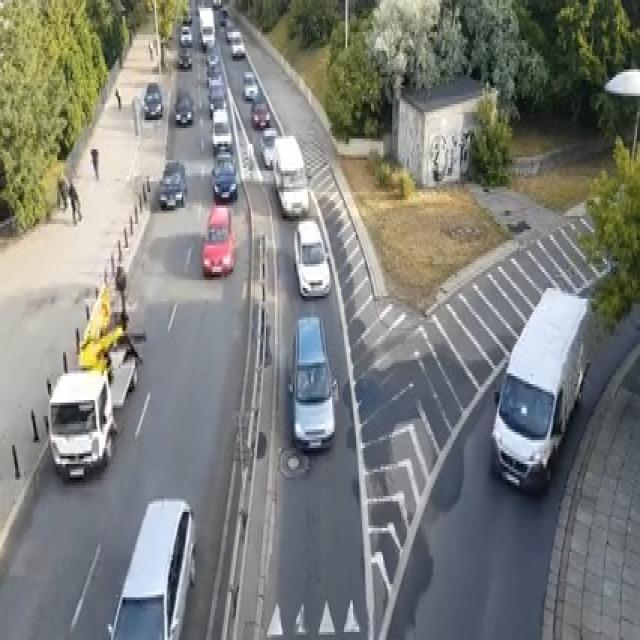bus: (490, 283, 593, 493), (105, 496, 197, 637)
car: (287, 314, 336, 450), (272, 133, 309, 219), (293, 218, 330, 298), (201, 203, 236, 277), (105, 339, 138, 408), (158, 160, 186, 208), (210, 152, 238, 200), (210, 106, 233, 154), (173, 88, 194, 125), (260, 125, 278, 168), (143, 83, 162, 117), (250, 96, 270, 128), (208, 80, 225, 115), (242, 69, 257, 99), (230, 32, 245, 59), (179, 24, 192, 45), (177, 48, 191, 67), (218, 8, 228, 24), (182, 8, 192, 24), (212, 0, 221, 8)
